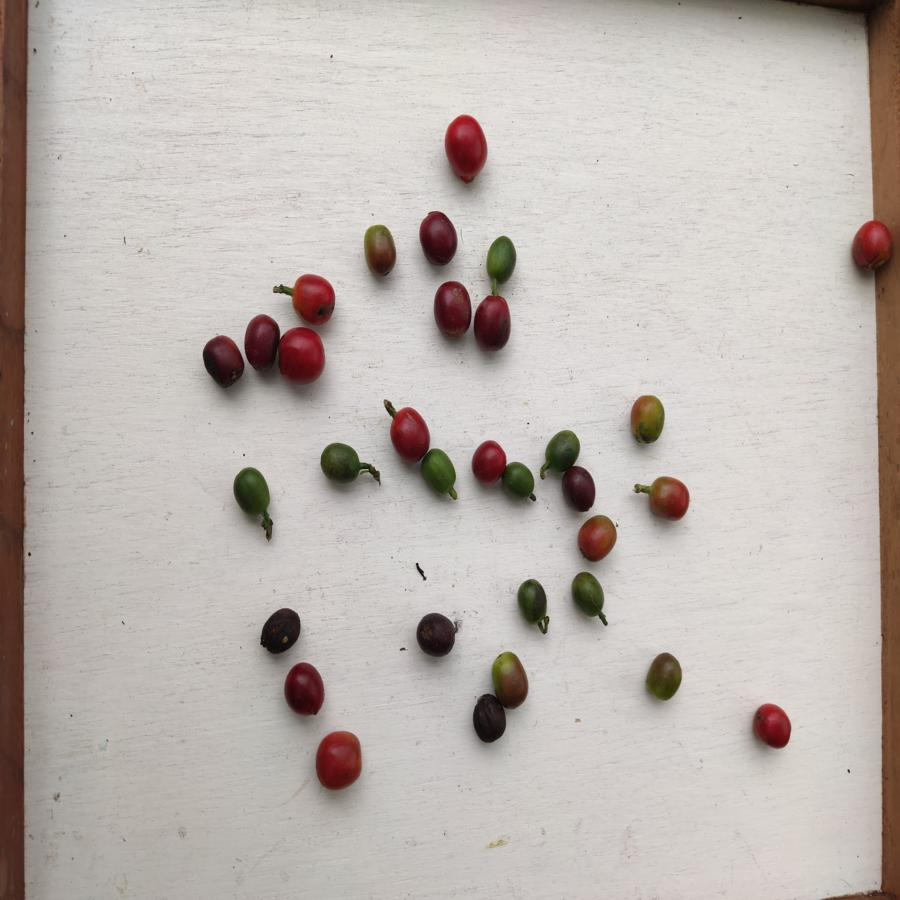Inmaduro: (228, 467, 279, 525), (419, 448, 458, 504), (317, 442, 365, 487), (568, 569, 608, 619), (514, 578, 552, 624), (541, 429, 581, 469), (502, 460, 538, 504), (485, 233, 516, 282)
Maduro: (313, 730, 367, 795), (441, 108, 489, 179), (277, 324, 328, 385), (289, 268, 337, 327), (850, 221, 893, 277), (385, 407, 429, 459), (751, 704, 795, 750), (467, 441, 506, 483)
Pinton: (492, 650, 533, 709), (360, 224, 401, 280), (644, 650, 685, 704), (648, 473, 691, 524), (576, 513, 618, 563), (628, 393, 667, 446)
Sobremaduro: (281, 661, 327, 719), (419, 209, 463, 267), (202, 335, 247, 390), (473, 294, 513, 354), (432, 281, 473, 339), (413, 611, 462, 659), (471, 690, 507, 747), (258, 608, 300, 655), (562, 466, 602, 513), (244, 316, 278, 369)
